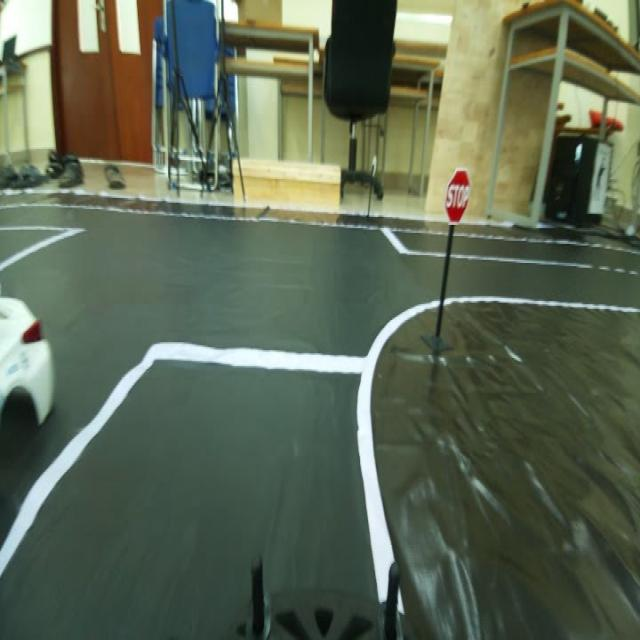car: (2, 270, 58, 452)
stop: (440, 166, 478, 230)
